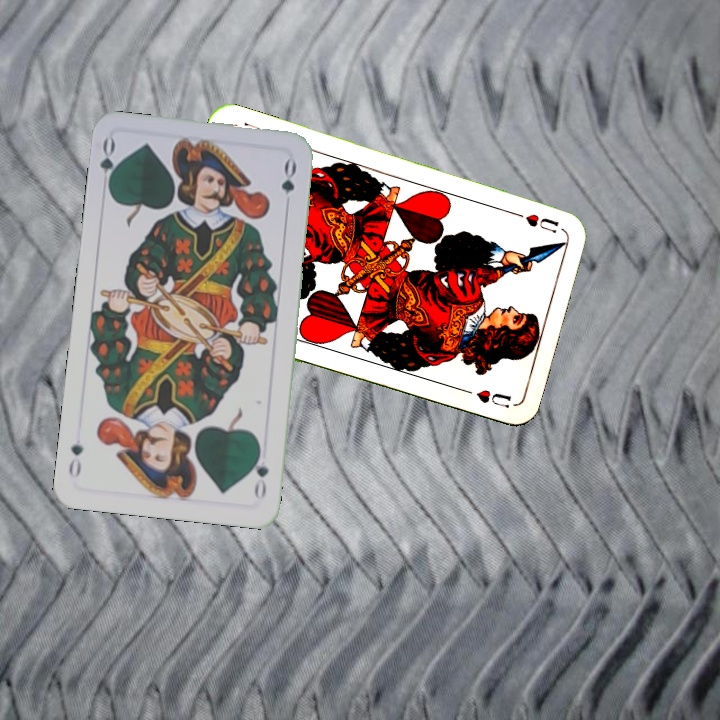GO: (96, 135, 122, 195), (248, 443, 272, 501)
HU: (521, 209, 562, 236)
